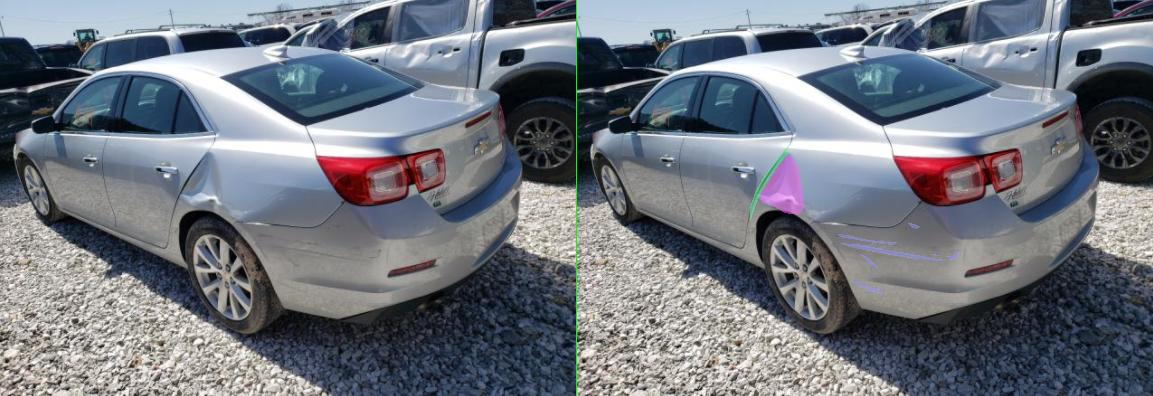Broken part: (346, 148, 424, 219)
Dent: (360, 152, 452, 214)
Scratch: (528, 243, 735, 260), (520, 234, 639, 244), (548, 280, 617, 293), (566, 254, 601, 267), (739, 248, 763, 259), (663, 223, 685, 228), (709, 254, 725, 255)
